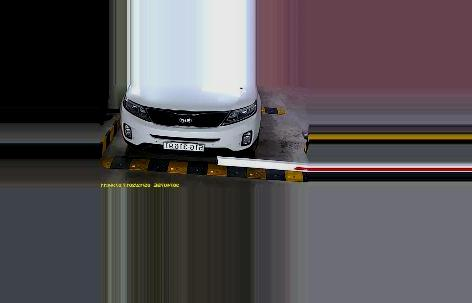License_Plate: (162, 140, 209, 153)
